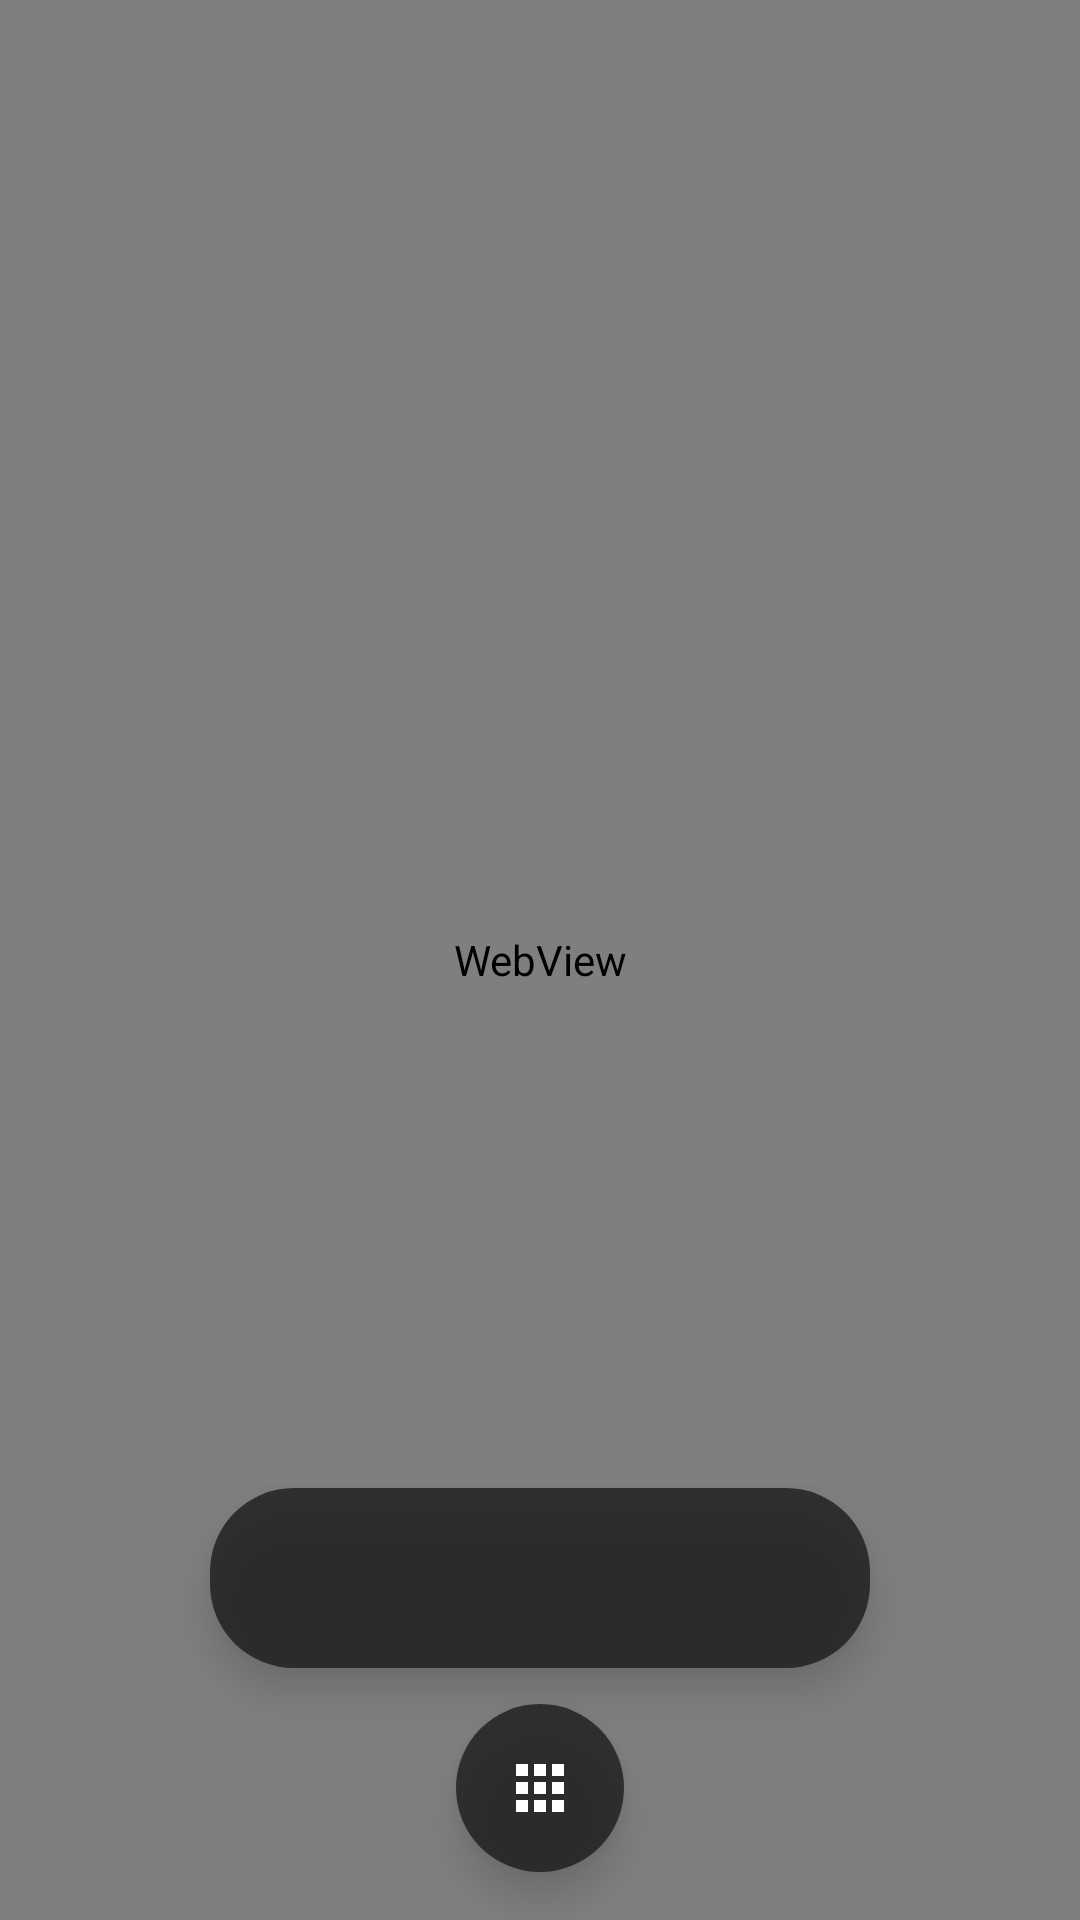

Icons on this 1080 × 1920 Android screen, each with its box as {"left": x1, "top": y1, "right": x2, "bottom": y2}:
Ouvrir le tiroir d'applications: {"left": 456, "top": 1704, "right": 624, "bottom": 1872}
